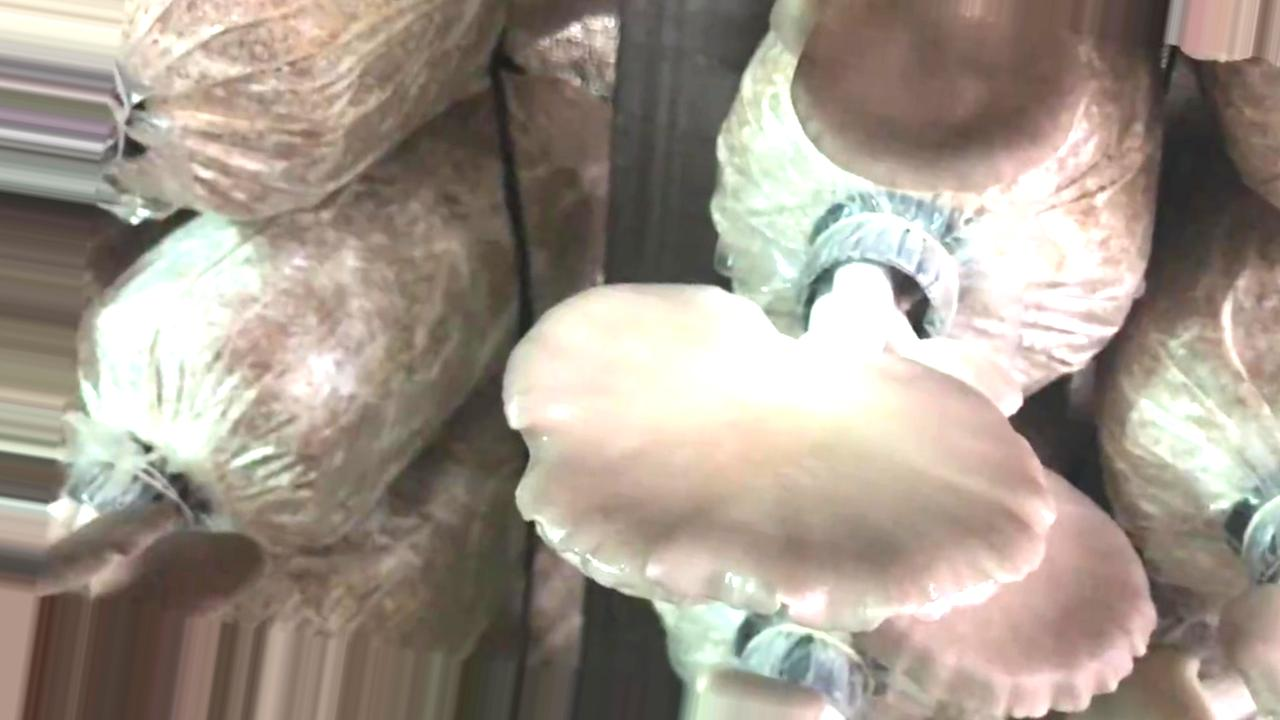nam: (493, 192, 1059, 628), (856, 460, 1159, 720), (785, 1, 1096, 195)
